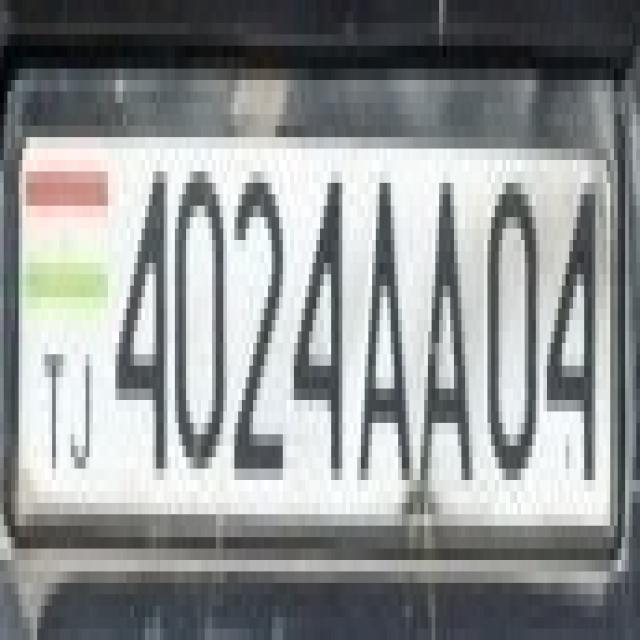0: (472, 148, 540, 480), (163, 148, 220, 458)
2: (227, 148, 283, 468)
4: (108, 148, 168, 468), (540, 148, 596, 468), (282, 148, 338, 468)
A: (354, 148, 409, 480), (413, 148, 465, 480)
